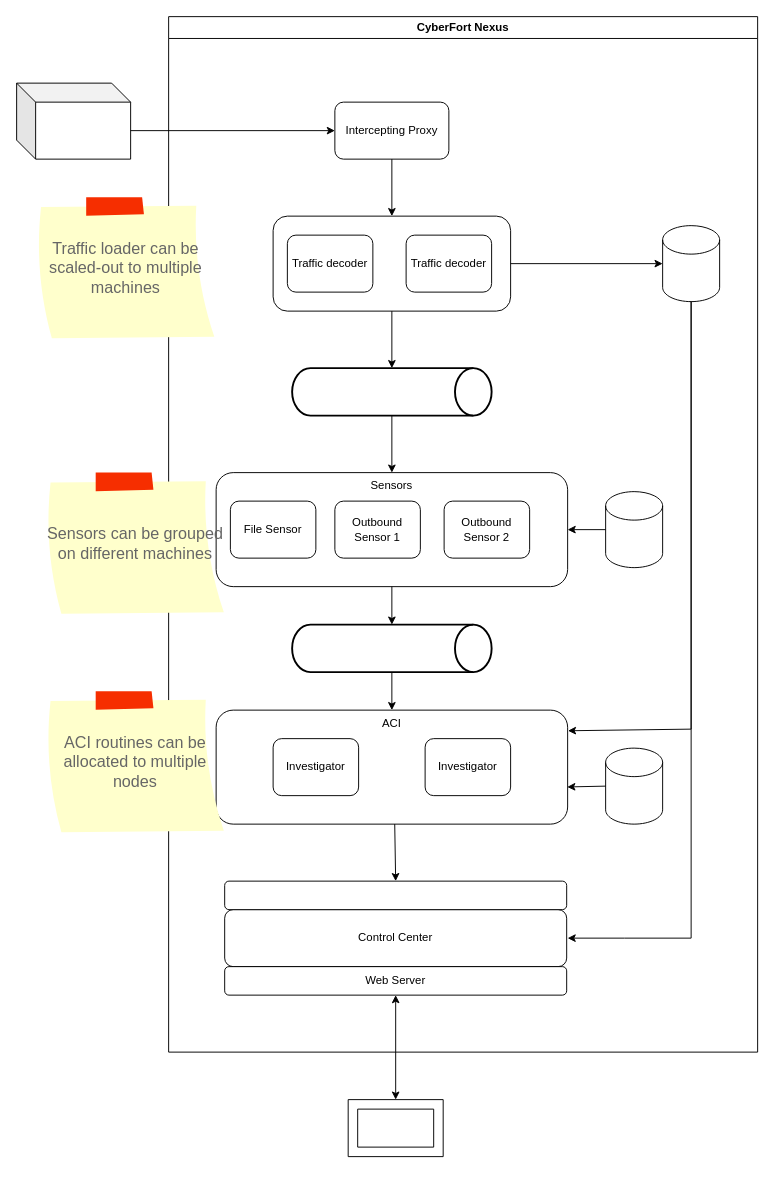
Image size: 774x1193. Some labels were removed from this diagram. Here are the shapes that lost their labels. From the top down, the centre of each, then its label:
pixel 73 120: Gateway
pixel 691 263: Meta Traffic Storage
pixel 391 391: Network Item Queue
pixel 634 529: Sensor Repository
pixel 391 648: Threat Queue
pixel 634 785: ACI's
pixel 395 895: API Gateway
pixel 395 1128: Web Application
